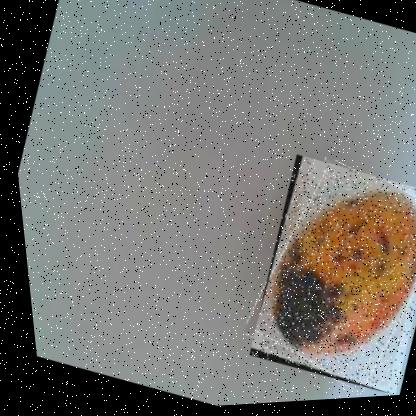mango_rotten: (222, 150, 415, 406)
